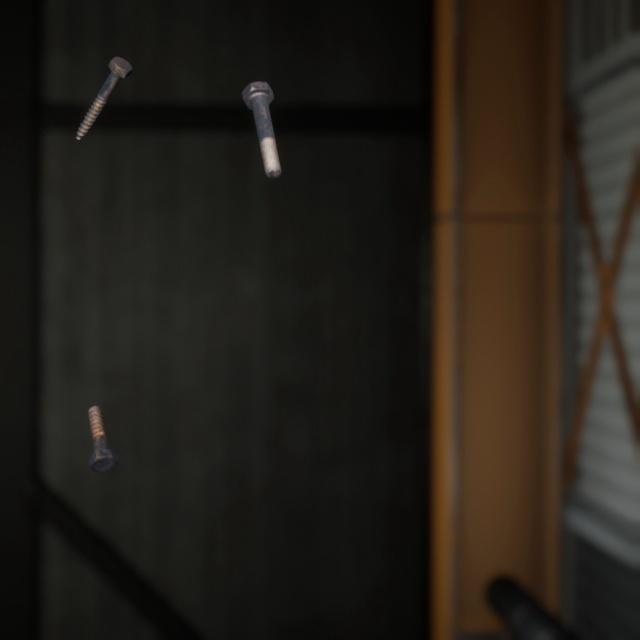bolt: (71, 40, 137, 133), (237, 64, 286, 170), (83, 381, 122, 456)
